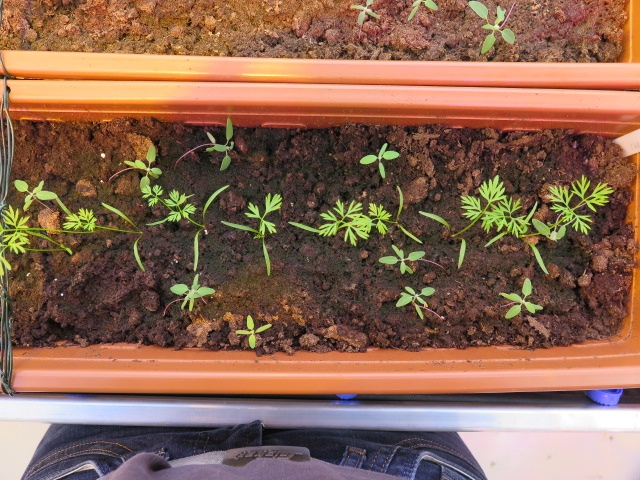weed: (495, 274, 545, 325), (165, 270, 220, 315), (387, 283, 440, 326), (355, 138, 402, 181), (232, 309, 274, 353), (373, 243, 427, 277)
